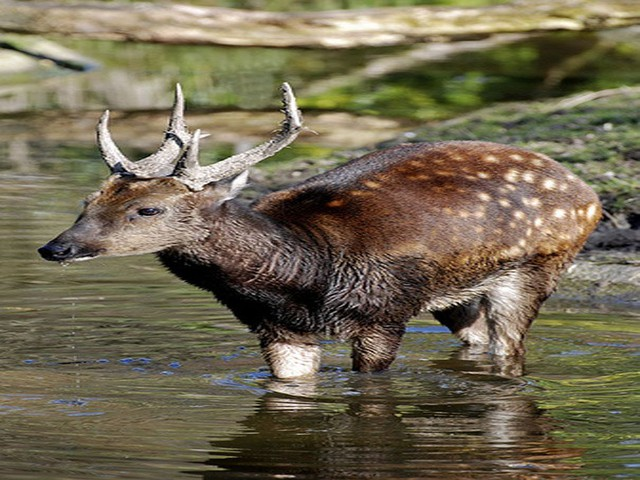deer: (36, 78, 608, 389)
